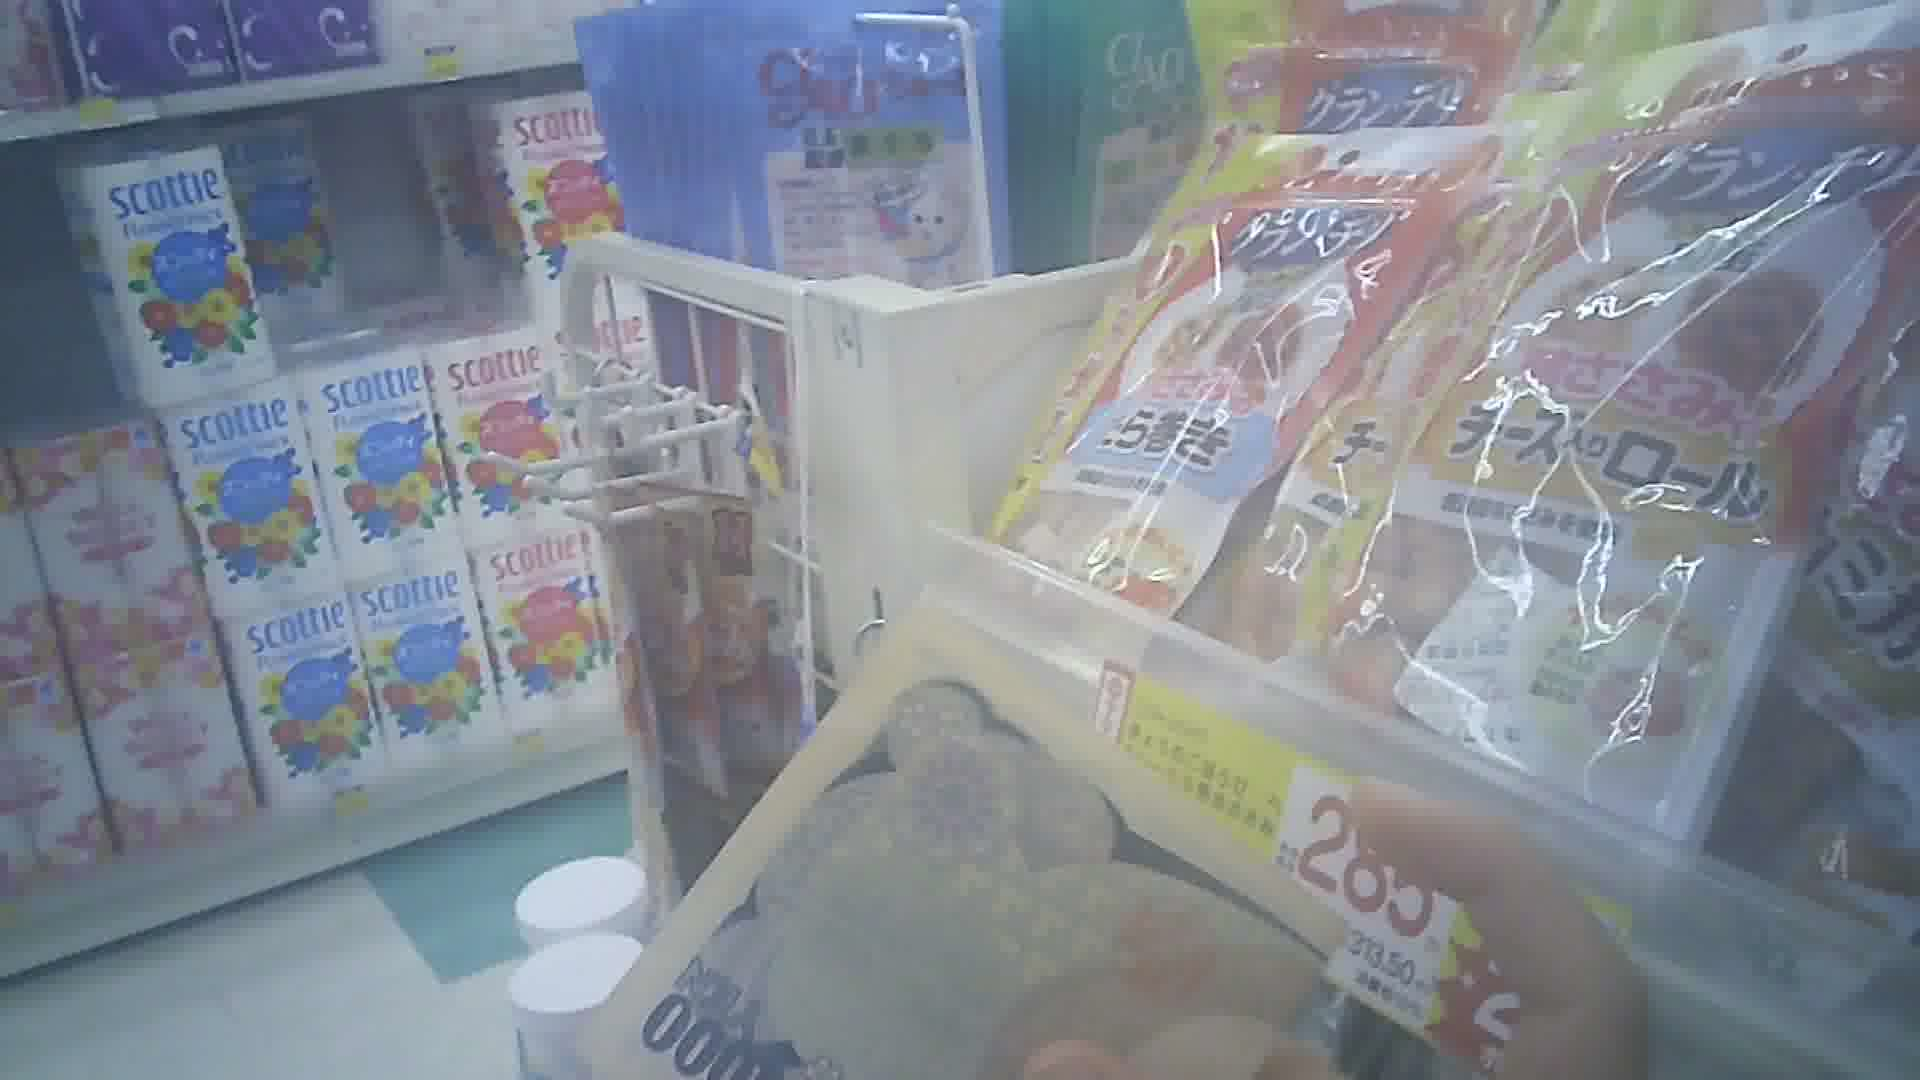1,000 Yen: (585, 609, 1333, 1077)
